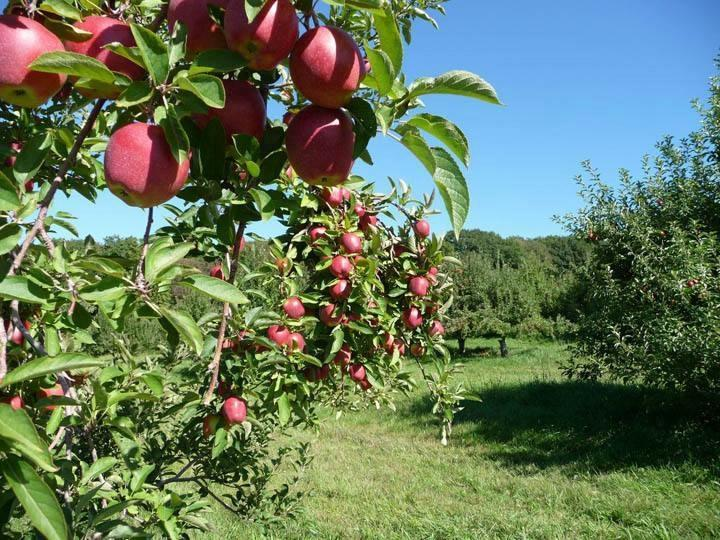apple: (106, 123, 190, 206), (67, 15, 146, 100), (287, 26, 366, 108), (1, 10, 65, 105), (221, 1, 300, 72), (286, 106, 354, 185), (189, 79, 265, 143), (169, 1, 225, 54), (221, 396, 245, 424), (268, 326, 291, 348), (282, 295, 303, 318), (330, 280, 351, 301), (332, 256, 353, 277), (342, 234, 364, 253)
